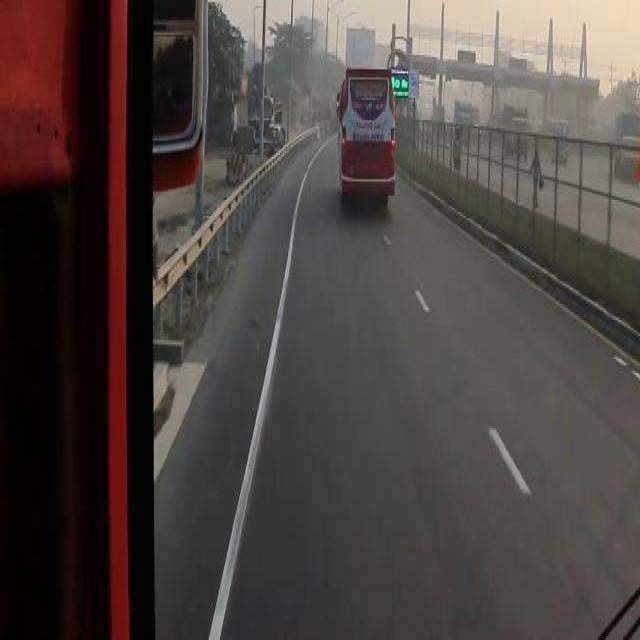vehicle: (336, 65, 398, 204), (614, 110, 640, 175), (256, 92, 286, 145), (500, 101, 529, 152), (549, 115, 569, 166), (455, 98, 473, 143)
